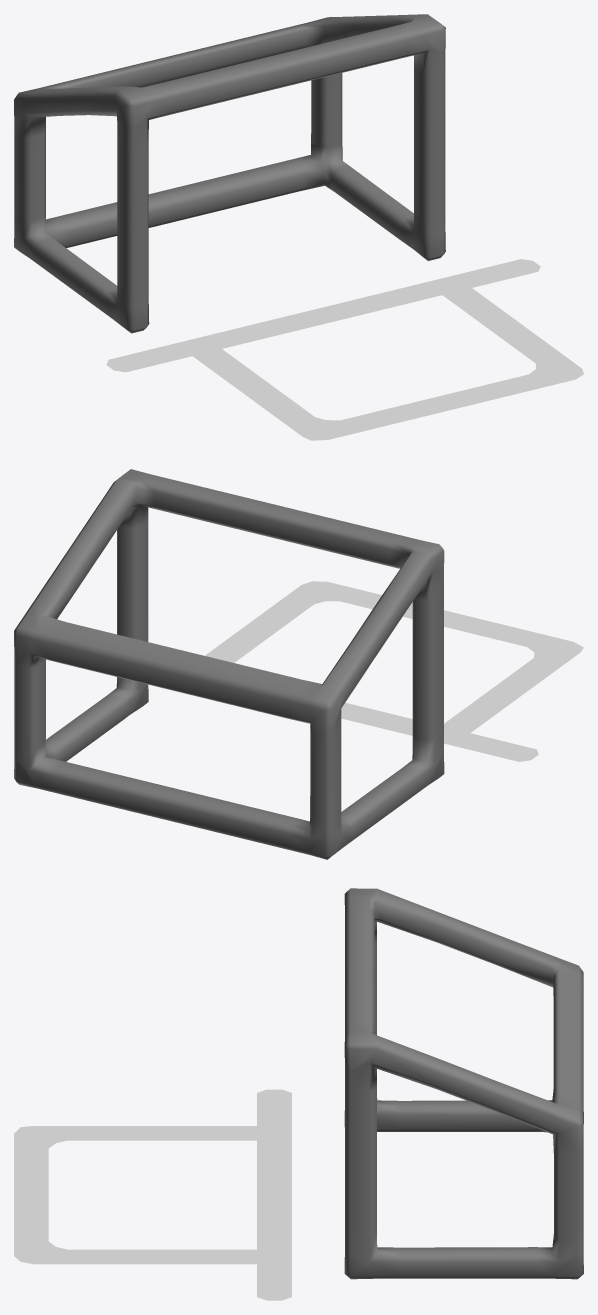
File: Porteria.obj
3 views of the same model, one above another, from view 1: azimuth 30°, elevation 25°; view 2: azimuth 150°, elevation 25°; view 3: azimuth 270°, elevation 25° (orthographic).
Parts seen in each view (by area): view 1: Soccer_Field; view 2: Soccer_Field; view 3: Soccer_Field.
Part boxes in pixels (box(x1,y1,x2,y2)): Soccer_Field: box(14, 14, 583, 440); Soccer_Field: box(14, 469, 583, 859); Soccer_Field: box(14, 888, 583, 1300).
Size of the model in its own units: 2.05 by 1.08 by 2.34.
1 material, 1 textured.
